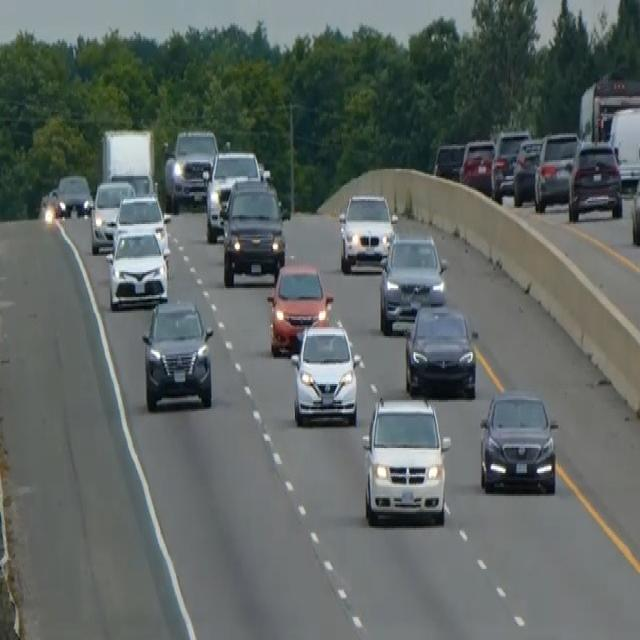car: (478, 388, 558, 494), (141, 297, 214, 411), (290, 316, 359, 426), (220, 176, 286, 286), (403, 302, 478, 398), (378, 233, 447, 334), (266, 262, 333, 356), (105, 222, 168, 310), (204, 149, 261, 242), (338, 190, 396, 272), (163, 126, 218, 212), (567, 137, 623, 220), (533, 130, 579, 212), (114, 192, 170, 258), (89, 178, 135, 252), (490, 128, 530, 199), (607, 105, 639, 185), (512, 135, 542, 206), (459, 137, 495, 194), (55, 172, 92, 217), (432, 140, 464, 182), (108, 169, 155, 197), (39, 187, 63, 224), (630, 166, 639, 246)
lorry: (577, 69, 639, 146)
minivan: (360, 391, 452, 528)
truck: (100, 126, 156, 198)
